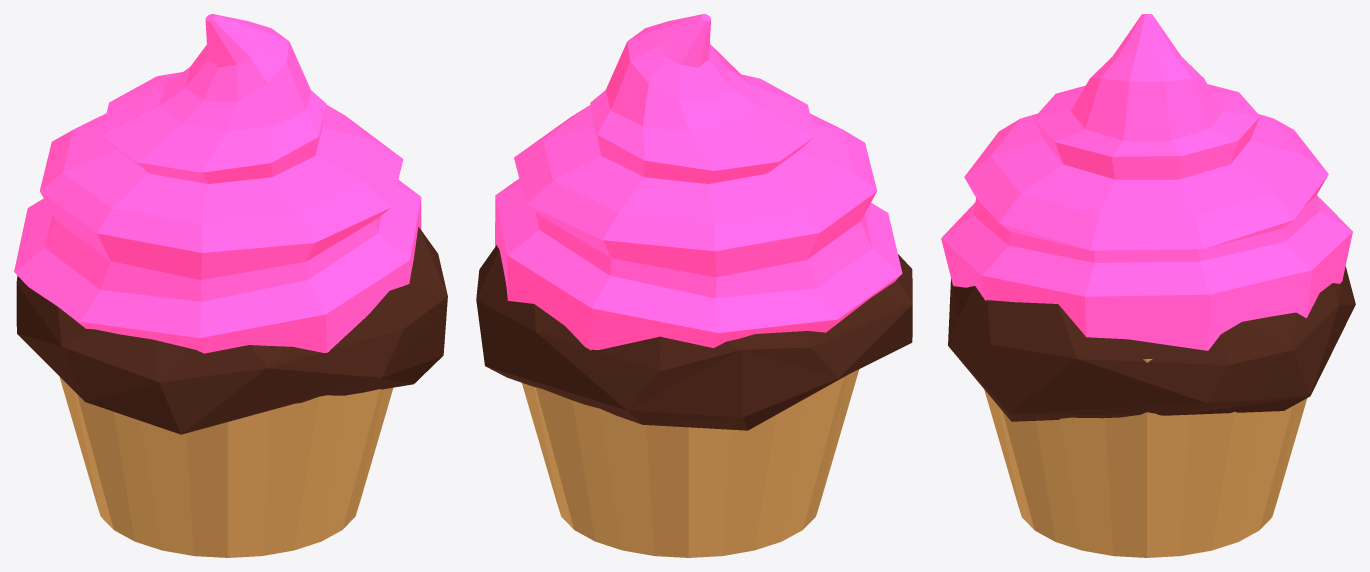
File: Cupcake.glb
The picture shows the model from 3 angles, left to right: view 1: azimuth 30°, elevation 25°; view 2: azimuth 150°, elevation 25°; view 3: azimuth 270°, elevation 25°; orthographic projection.
Parts seen in each view (by area): view 1: Cupcake; view 2: Cupcake; view 3: Cupcake.
Part boxes in pixels (<box>): Cupcake: <box>14,14,447,557</box>; Cupcake: <box>476,14,912,557</box>; Cupcake: <box>941,14,1355,557</box>.
Size of the model in its own units: 73.42 by 93.16 by 72.58.
